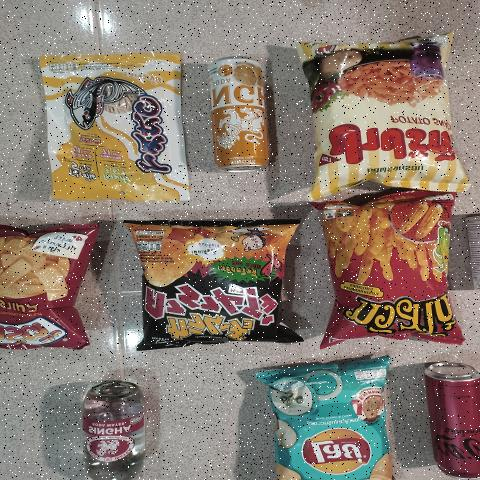coke_red: (419, 360, 479, 480)
karamujo: (147, 229, 288, 344)
lay_blue: (263, 370, 393, 480)
paprika: (304, 54, 460, 190)
singha_soda: (64, 377, 154, 480)
singha_yellow: (213, 56, 273, 179)
taro_yellow: (39, 55, 192, 197)
twisco: (326, 204, 454, 338)
